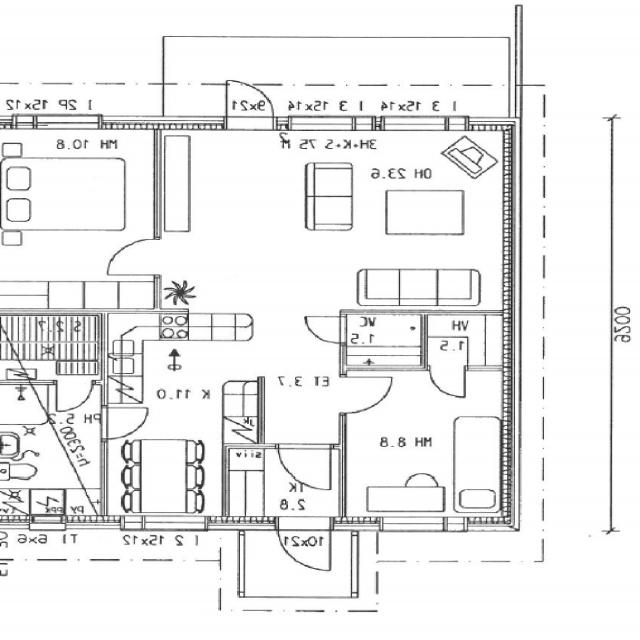door: (279, 517, 330, 569), (278, 443, 331, 489), (226, 80, 274, 130), (339, 377, 394, 413), (107, 239, 161, 275), (102, 408, 149, 439), (304, 316, 347, 343), (430, 365, 465, 398), (57, 380, 93, 412)
